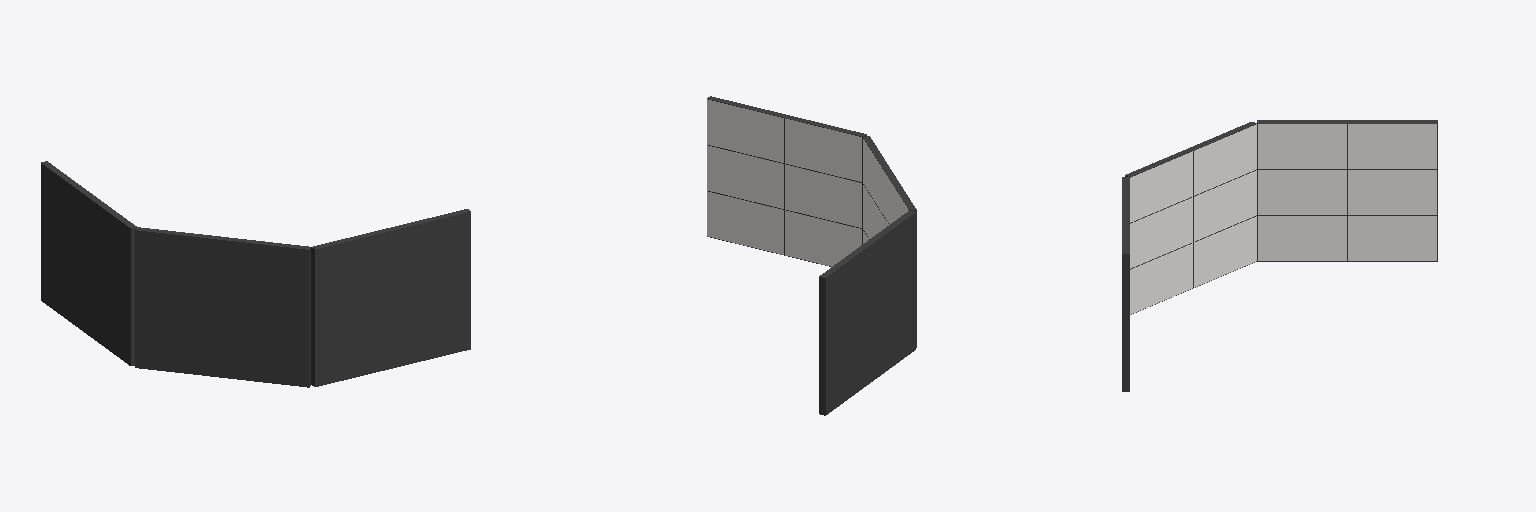
File: corelogicmodel_screen2.obj
3 renders of one model, left to right at view 1: azimuth 30°, elevation 25°; view 2: azimuth 150°, elevation 25°; view 3: azimuth 270°, elevation 25°, orthographic.
Visible parts, largest first — view 1: Mesh137_Group118_Model; view 2: Mesh137_Group118_Model; view 3: Mesh137_Group118_Model.
Boxes of the visible parts, x1,y1,x2,y2 form: Mesh137_Group118_Model: [41, 161, 470, 387]; Mesh137_Group118_Model: [707, 96, 916, 415]; Mesh137_Group118_Model: [1122, 120, 1437, 391].
Size of the model in its own units: 168 by 81 by 168.